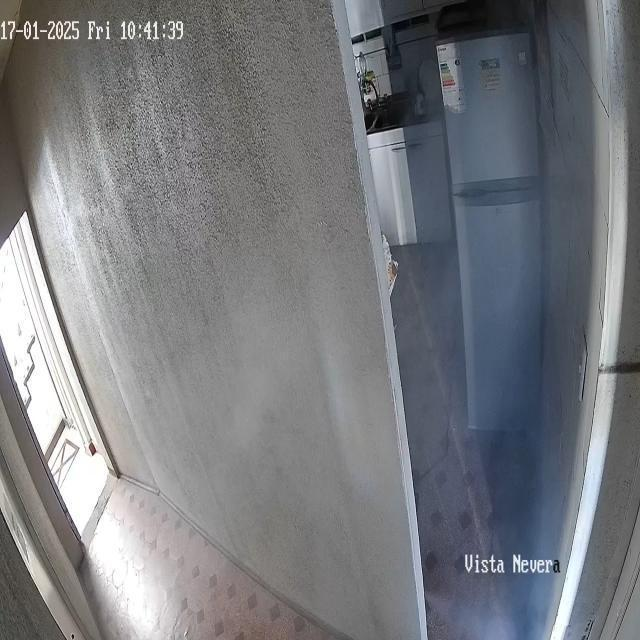fire: (386, 61, 602, 640)
